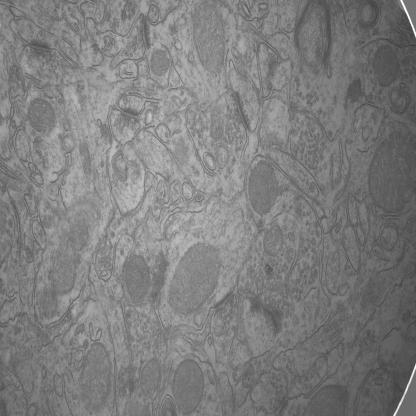mitochondria: (367, 126, 416, 216), (169, 242, 222, 312), (190, 0, 228, 76), (78, 342, 111, 413), (248, 157, 279, 218), (171, 360, 206, 414), (50, 237, 82, 295), (122, 247, 151, 303), (371, 43, 400, 88), (26, 100, 60, 132), (138, 357, 163, 395), (147, 47, 175, 77), (262, 223, 284, 260)
